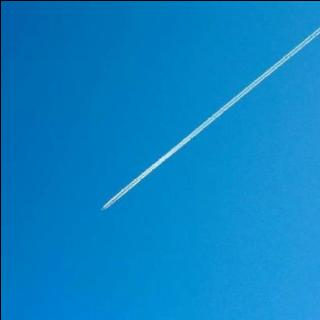Contrails: (99, 0, 320, 207)
